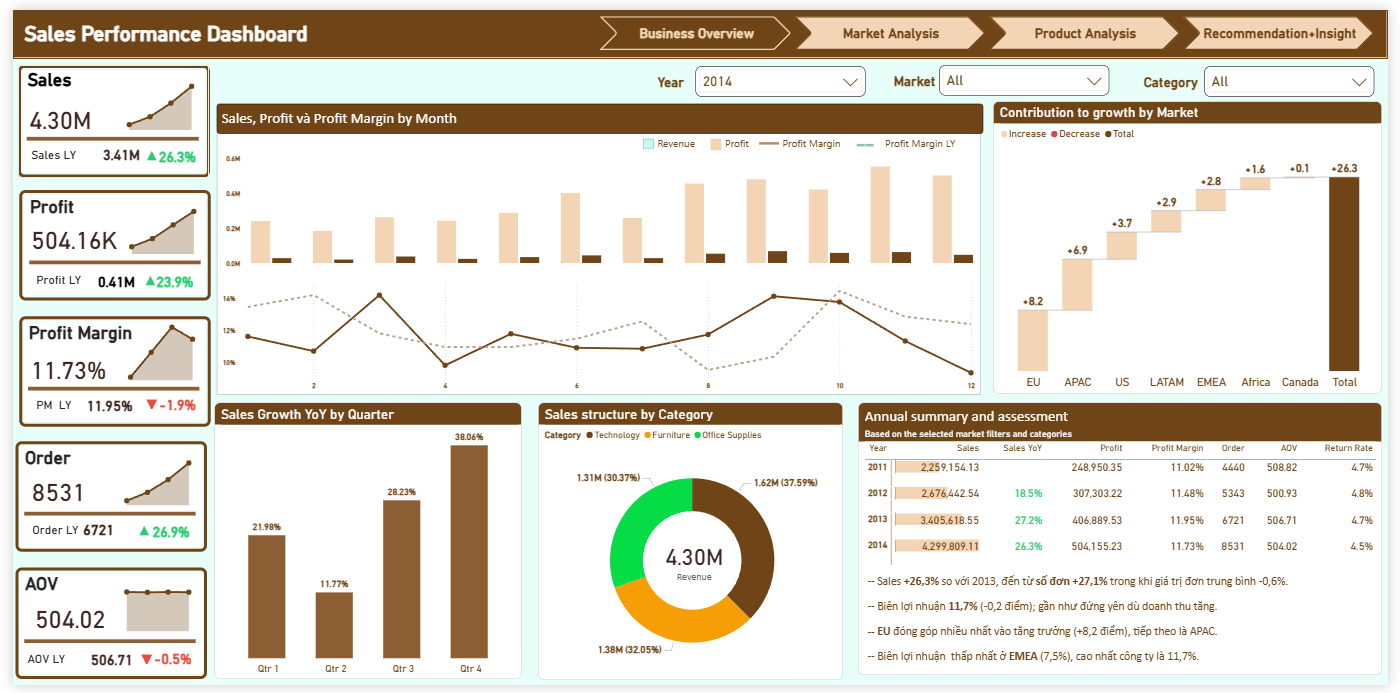

The dashboard page shown, as its layout file describes it:
{"tool":"powerbi","page":{"name":"Business Overview","canvas":[2200,1080],"ordinal":0},"visuals":[{"type":"shape","box":[0,0,2200,78],"z":0,"group":"g14"},{"type":"shape","box":[7.3,88,307.5,180],"z":0,"group":"g13"},{"type":"group","id":"g1","title":"Group 4","box":[1803.4,89.8,374.6,56.2],"z":0,"group":"g15"},{"type":"textbox","box":[1403.5,95.2,92.6,48.9],"z":0,"group":"g4"},{"type":"textbox","box":[1803.4,97,117.3,48.9],"z":0,"group":"g1"},{"type":"textbox","box":[1026,97.2,67.9,36.2],"z":0,"group":"g18"},{"type":"shape","box":[326,150,1222,466],"z":0},{"type":"group","id":"g2","title":"Group 3","box":[1008,196,97,36.9],"z":0,"group":"g5"},{"type":"shape","box":[1193.5,198,32.3,30.7],"z":0,"group":"g6"},{"type":"shape","box":[1115.8,205.2,17.3,18.3],"z":0,"group":"g3"},{"type":"shape","box":[1008,206.2,17.3,16.4],"z":0,"group":"g2"},{"type":"shape","box":[1364.9,206.2,12.9,20.5],"z":0,"group":"g11"},{"type":"shape","box":[10.9,288.1,306.2,177.1],"z":0,"group":"g12"},{"type":"shape","box":[9.3,489.4,306.2,177.1],"z":0,"group":"g10"},{"type":"shape","box":[4,690.7,306.2,177.1],"z":0,"group":"g9"},{"type":"shape","box":[4,892,306.2,178],"z":0,"group":"g8"},{"type":"slicer","fields":{"Values":["Dim_Geography.Market"]},"box":[1481.7,88,271.7,48.9],"z":1000,"group":"g4"},{"type":"slicer","fields":{"Values":["Dim_Product.Category"]},"box":[1906.3,89.8,271.7,48.9],"z":1000,"group":"g1"},{"type":"slicer","fields":{"Values":["Dim_Date.Year"]},"box":[1091.9,90,271.7,48.9],"z":1000,"group":"g18"},{"type":"textbox","box":[1025.3,196,79.8,36.9],"z":1000,"group":"g2"},{"type":"group","id":"g3","title":"Group 2","box":[1115.8,196,77.6,38.9],"z":1000,"group":"g5"},{"type":"textbox","box":[1133.1,196,60.4,38.9],"z":1000,"group":"g3"},{"type":"textbox","box":[1225.8,196,114.3,40.9],"z":1000,"group":"g6"},{"type":"textbox","box":[1391.9,196,138,40.9],"z":1000,"group":"g7"},{"type":"shape","box":[1350.9,206.2,12.9,20.5],"z":1000,"group":"g11"},{"type":"textbox","box":[24.7,215.9,156.7,34.5],"z":1000,"group":"g13"},{"type":"clusteredColumnChart","title":"Revenue, Profit, Margin by Category","fields":{"Category":["Dim_Date.Month"],"Y":["_Measure.Total Revenue","_Measure.Total Profit"]},"box":[330,224,1218,194],"z":1000},{"type":"cardVisual","fields":{"Data":["_Measure.Profit LY"]},"box":[112,408.3,118,50],"z":1000,"group":"g12"},{"type":"textbox","box":[32.6,615.1,90,40],"z":1000,"group":"g10"},{"type":"cardVisual","fields":{"Data":["_Measure.Order LY"]},"box":[88,807.3,118,50],"z":1000,"group":"g9"},{"type":"cardVisual","fields":{"Data":["_Measure.AOV LY"]},"box":[100,1012,118,52],"z":1000,"group":"g8"},{"type":"pageNavigator","box":[938,10,1240,54],"z":2000,"group":"g14"},{"type":"group","id":"g4","title":"Group 3","box":[1403.5,88,349.9,56.2],"z":2000,"group":"g15"},{"type":"group","id":"g5","title":"Group 1","box":[1008,196,522,40],"z":2000},{"type":"group","id":"g6","title":"Group 4","box":[1193.5,196,146.6,40.9],"z":2000,"group":"g5"},{"type":"cardVisual","fields":{"Data":["_Measure.Growth Arrow"]},"box":[179.3,207.8,80.4,50.8],"z":2000,"group":"g13"},{"type":"cardVisual","fields":{"Data":["_Measure.Profit YoY Growth %"]},"box":[200,403.3,126,60],"z":2000,"group":"g12"},{"type":"cardVisual","fields":{"Data":["_Measure.PM Growth Arrow"]},"box":[180.6,605.1,80,50],"z":2000,"group":"g10"},{"type":"cardVisual","fields":{"Data":["_Measure.Order yoy"]},"box":[193.1,803.8,126,60],"z":2000,"group":"g9"},{"type":"cardVisual","fields":{"Data":["_Measure.AOV yoy"]},"box":[196.3,1005.8,125.7,61.7],"z":2000,"group":"g8"},{"type":"textbox","box":[18,18,528,40],"z":2500,"group":"g14"},{"type":"group","id":"g7","title":"Group 6","box":[1350.9,196,179,40.9],"z":3000,"group":"g5"},{"type":"cardVisual","fields":{"Data":["_Measure.Revenue LY"]},"box":[120,206.6,108,49.1],"z":3000,"group":"g13"},{"type":"cardVisual","fields":{"Data":["_Measure.Profit Growth Arrow"]},"box":[178.4,408.3,81.4,50],"z":3000,"group":"g12"},{"type":"lineChart","fields":{"Category":["Dim_Date.Month"],"Y":["_Measure.Profit Margin %","_Measure.Profit Margin LY"]},"box":[330,422,1218,194],"z":3000},{"type":"cardVisual","fields":{"Data":["_Measure.PM LY"]},"box":[94.6,603.1,134,54],"z":3000,"group":"g10"},{"type":"cardVisual","fields":{"Data":["_Measure.Order Arrow"]},"box":[168,809.3,80,50],"z":3000,"group":"g9"},{"type":"cardVisual","fields":{"Data":["_Measure.AOV Arrow"]},"box":[171.6,1013.2,81.4,50.2],"z":3000,"group":"g8"},{"type":"cardVisual","fields":{"Data":["_Measure.Revenue YoY Growth %"]},"box":[203.5,203.7,124.5,58.9],"z":4000,"group":"g13"},{"type":"textbox","box":[32,415.3,104,36],"z":4000,"group":"g12"},{"type":"cardVisual","fields":{"Data":["_Measure.PM YoY Growth %"]},"box":[204.6,601.1,124,58],"z":4000,"group":"g10"},{"type":"textbox","box":[25.1,815.8,104,36],"z":4000,"group":"g9"},{"type":"group","id":"g8","title":"Card 5","box":[4,892,318,178],"z":4000},{"type":"textbox","box":[18.7,1022.2,147.2,33],"z":4000,"group":"g8"},{"type":"textbox","box":[326,150,1226,48],"z":5000},{"type":"shape","box":[21.6,198.3,275.4,16],"z":5000,"group":"g13"},{"type":"shape","box":[25.1,396.7,274.2,15.7],"z":5000,"group":"g12"},{"type":"shape","box":[23.5,598,274.2,15.7],"z":5000,"group":"g10"},{"type":"shape","box":[18.2,799.3,274.2,15.7],"z":5000,"group":"g9"},{"type":"shape","box":[18.2,1001.1,274.2,15.8],"z":5000,"group":"g8"},{"type":"cardVisual","fields":{"Data":["_Measure.AOV"]},"box":[10,940,194,68],"z":5500,"group":"g8"},{"type":"lineChart","fields":{"Category":["Date.Year"],"Y":["_Measure.Total Revenue"]},"box":[176.3,91.7,119.9,100.2],"z":6000,"group":"g13"},{"type":"lineChart","fields":{"Category":["Date.Year"],"Y":["_Measure.Total Profit"]},"box":[179.1,291.8,119.3,98.6],"z":6000,"group":"g12"},{"type":"lineChart","fields":{"Category":["Date.Year"],"Y":["_Measure.Profit Margin %"]},"box":[177.6,493.1,119.3,98.6],"z":6000,"group":"g10"},{"type":"group","id":"g9","title":"Card 4","box":[4,690.7,315.1,177.1],"z":6000},{"type":"lineChart","fields":{"Category":["Date.Year"],"Y":["_Measure.Total Order"]},"box":[172.3,694.4,119.3,98.6],"z":6000,"group":"g9"},{"type":"lineChart","fields":{"Category":["Date.Year"],"Y":["_Measure.AOV"]},"box":[172.3,895.7,119.3,99],"z":6000,"group":"g8"},{"type":"textbox","box":[18,90,146,53.2],"z":7000,"group":"g13"},{"type":"textbox","box":[22,292.8,106,50],"z":7000,"group":"g12"},{"type":"group","id":"g10","title":"Card 3","box":[4,489.4,324.6,177.1],"z":7000},{"type":"textbox","box":[19.9,493.1,237.2,50],"z":7000,"group":"g10"},{"type":"textbox","box":[14.6,694.4,237.2,50],"z":7000,"group":"g9"},{"type":"textbox","box":[14.6,895.7,237.3,50.2],"z":7000,"group":"g8"},{"type":"group","id":"g11","title":"Group 5","box":[1350.9,206.2,27,20.5],"z":7008,"group":"g7"},{"type":"cardVisual","fields":{"Data":["_Measure.Total Sales"]},"box":[2,141.2,172,67.5],"z":8000,"group":"g13"},{"type":"group","id":"g12","title":"Card 2","box":[4,288.1,322,177.1],"z":8000},{"type":"cardVisual","fields":{"Data":["_Measure.Total Profit"]},"box":[4,333.5,274,68],"z":8000,"group":"g12"},{"type":"cardVisual","fields":{"Data":["_Measure.Profit Margin %"]},"box":[4,541.2,194.3,67.1],"z":8000,"group":"g10"},{"type":"cardVisual","fields":{"Data":["_Measure.Total Order"]},"box":[5.1,737.8,200,66],"z":8000,"group":"g9"},{"type":"group","id":"g13","title":"Card 1","box":[2,88,326,180],"z":9000},{"type":"group","id":"g14","title":"Heding","box":[0,0,2200,78],"z":10000},{"type":"clusteredColumnChart","title":"Sales Growth YoY by Quarter","fields":{"Y":["_Measure.Revenue YoY Growth %"],"Category":["Dim_Date.Date.Variation.Date Hierarchy.Quarter"]},"box":[322,628,492,442],"z":11000},{"type":"donutChart","title":"Sales structure by Category","fields":{"Y":["_Measure.Total Revenue"],"Category":["Dim_Product.Category"]},"box":[839,628,488,444],"z":12000,"group":"g17"},{"type":"waterfallChart","title":"Contribution to growth by Market","fields":{"Category":["Dim_Geography.Market"],"Y":["_Measure.Growth Contribution PP"]},"box":[1568,146,622,468],"z":13000},{"type":"cardVisual","fields":{"Data":["_Measure.Total Revenue"]},"box":[1008,832,160,106],"z":14000,"group":"g17"},{"type":"group","id":"g15","title":"Group 8","box":[1026,88,1152,58],"z":15000},{"type":"group","id":"g16","title":"Group 9","box":[1352,628,838,436],"z":16000},{"type":"pivotTable","title":" Annual summary and assessment","fields":{"Values":["_Measure.Total Revenue","_Measure.Revenue YoY Growth %","_Measure.Total Profit","_Measure.Profit Margin %","_Measure.Total Order","_Measure.AOV","_Measure.Return Rate %"],"Rows":["Dim_Date.Year"]},"box":[1352,628,838,436],"z":16000,"group":"g16"},{"type":"group","id":"g17","title":"Group 10","box":[839,628,488,444],"z":16001},{"type":"textbox","box":[1362,898,786,158],"z":18000,"group":"g16"},{"type":"group","id":"g18","title":"Group 7","box":[1026,90,338,48],"z":19000,"group":"g15"}]}

Visuals, with their boxes in screenshot pixels (x1, y1, x2, y2), scaled from the page's 2200x1080 canvas onto the 1400x693 screenshot:
shape: x1=0, y1=0, x2=1399, y2=50
shape: x1=5, y1=56, x2=200, y2=172
"Group 4" group: x1=1148, y1=58, x2=1386, y2=94
textbox: x1=893, y1=61, x2=952, y2=92
textbox: x1=1148, y1=62, x2=1222, y2=94
textbox: x1=653, y1=62, x2=696, y2=86
shape: x1=207, y1=96, x2=985, y2=395
"Group 3" group: x1=641, y1=126, x2=703, y2=149
shape: x1=760, y1=127, x2=780, y2=147
shape: x1=710, y1=132, x2=721, y2=143
shape: x1=641, y1=132, x2=652, y2=143
shape: x1=869, y1=132, x2=877, y2=145
shape: x1=7, y1=185, x2=202, y2=299
shape: x1=6, y1=314, x2=201, y2=428
shape: x1=3, y1=443, x2=197, y2=557
shape: x1=3, y1=572, x2=197, y2=687
slicer - Dim_Geography.Market: x1=943, y1=56, x2=1116, y2=88
slicer - Dim_Product.Category: x1=1213, y1=58, x2=1386, y2=89
slicer - Dim_Date.Year: x1=695, y1=58, x2=868, y2=89
textbox: x1=652, y1=126, x2=703, y2=149
"Group 2" group: x1=710, y1=126, x2=759, y2=151
textbox: x1=721, y1=126, x2=760, y2=151
textbox: x1=780, y1=126, x2=853, y2=152
textbox: x1=886, y1=126, x2=974, y2=152
shape: x1=860, y1=132, x2=868, y2=145
textbox: x1=16, y1=139, x2=115, y2=161
"Revenue, Profit, Margin by Category" clusteredColumnChart: x1=210, y1=144, x2=985, y2=268
cardVisual - _Measure.Profit LY: x1=71, y1=262, x2=146, y2=294
textbox: x1=21, y1=395, x2=78, y2=420
cardVisual - _Measure.Order LY: x1=56, y1=518, x2=131, y2=550
cardVisual - _Measure.AOV LY: x1=64, y1=649, x2=139, y2=683
pageNavigator: x1=597, y1=6, x2=1386, y2=41
"Group 3" group: x1=893, y1=56, x2=1116, y2=93
"Group 1" group: x1=641, y1=126, x2=974, y2=151
"Group 4" group: x1=760, y1=126, x2=853, y2=152
cardVisual - _Measure.Growth Arrow: x1=114, y1=133, x2=165, y2=166
cardVisual - _Measure.Profit YoY Growth %: x1=127, y1=259, x2=207, y2=297
cardVisual - _Measure.PM Growth Arrow: x1=115, y1=388, x2=166, y2=420
cardVisual - _Measure.Order yoy: x1=123, y1=516, x2=203, y2=554
cardVisual - _Measure.AOV yoy: x1=125, y1=645, x2=205, y2=685
textbox: x1=11, y1=12, x2=347, y2=37
"Group 6" group: x1=860, y1=126, x2=974, y2=152
cardVisual - _Measure.Revenue LY: x1=76, y1=133, x2=145, y2=164
cardVisual - _Measure.Profit Growth Arrow: x1=114, y1=262, x2=165, y2=294
lineChart - Dim_Date.Month x _Measure.Profit Margin %: x1=210, y1=271, x2=985, y2=395
cardVisual - _Measure.PM LY: x1=60, y1=387, x2=145, y2=422
cardVisual - _Measure.Order Arrow: x1=107, y1=519, x2=158, y2=551
cardVisual - _Measure.AOV Arrow: x1=109, y1=650, x2=161, y2=682
cardVisual - _Measure.Revenue YoY Growth %: x1=130, y1=131, x2=209, y2=169
textbox: x1=20, y1=266, x2=87, y2=290
cardVisual - _Measure.PM YoY Growth %: x1=130, y1=386, x2=209, y2=423
textbox: x1=16, y1=523, x2=82, y2=547
"Card 5" group: x1=3, y1=572, x2=205, y2=687
textbox: x1=12, y1=656, x2=106, y2=677
textbox: x1=207, y1=96, x2=988, y2=127
shape: x1=14, y1=127, x2=189, y2=138
shape: x1=16, y1=255, x2=190, y2=265
shape: x1=15, y1=384, x2=189, y2=394
shape: x1=12, y1=513, x2=186, y2=523
shape: x1=12, y1=642, x2=186, y2=653
cardVisual - _Measure.AOV: x1=6, y1=603, x2=130, y2=647
lineChart - Date.Year x _Measure.Total Revenue: x1=112, y1=59, x2=188, y2=123
lineChart - Date.Year x _Measure.Total Profit: x1=114, y1=187, x2=190, y2=251
lineChart - Date.Year x _Measure.Profit Margin %: x1=113, y1=316, x2=189, y2=380
"Card 4" group: x1=3, y1=443, x2=203, y2=557
lineChart - Date.Year x _Measure.Total Order: x1=110, y1=446, x2=186, y2=509
lineChart - Date.Year x _Measure.AOV: x1=110, y1=575, x2=186, y2=638
textbox: x1=11, y1=58, x2=104, y2=92
textbox: x1=14, y1=188, x2=81, y2=220
"Card 3" group: x1=3, y1=314, x2=209, y2=428
textbox: x1=13, y1=316, x2=164, y2=348
textbox: x1=9, y1=446, x2=160, y2=478
textbox: x1=9, y1=575, x2=160, y2=607
"Group 5" group: x1=860, y1=132, x2=877, y2=145
cardVisual - _Measure.Total Sales: x1=1, y1=91, x2=111, y2=134
"Card 2" group: x1=3, y1=185, x2=207, y2=299
cardVisual - _Measure.Total Profit: x1=3, y1=214, x2=177, y2=258
cardVisual - _Measure.Profit Margin %: x1=3, y1=347, x2=126, y2=390
cardVisual - _Measure.Total Order: x1=3, y1=473, x2=131, y2=516
"Card 1" group: x1=1, y1=56, x2=209, y2=172
"Heding" group: x1=0, y1=0, x2=1399, y2=50
"Sales Growth YoY by Quarter" clusteredColumnChart: x1=205, y1=403, x2=518, y2=687
"Sales structure by Category" donutChart: x1=534, y1=403, x2=844, y2=688
"Contribution to growth by Market" waterfallChart: x1=998, y1=94, x2=1394, y2=394
cardVisual - _Measure.Total Revenue: x1=641, y1=534, x2=743, y2=602
"Group 8" group: x1=653, y1=56, x2=1386, y2=94
"Group 9" group: x1=860, y1=403, x2=1394, y2=683
" Annual summary and assessment" pivotTable: x1=860, y1=403, x2=1394, y2=683
"Group 10" group: x1=534, y1=403, x2=844, y2=688
textbox: x1=867, y1=576, x2=1367, y2=678
"Group 7" group: x1=653, y1=58, x2=868, y2=89
